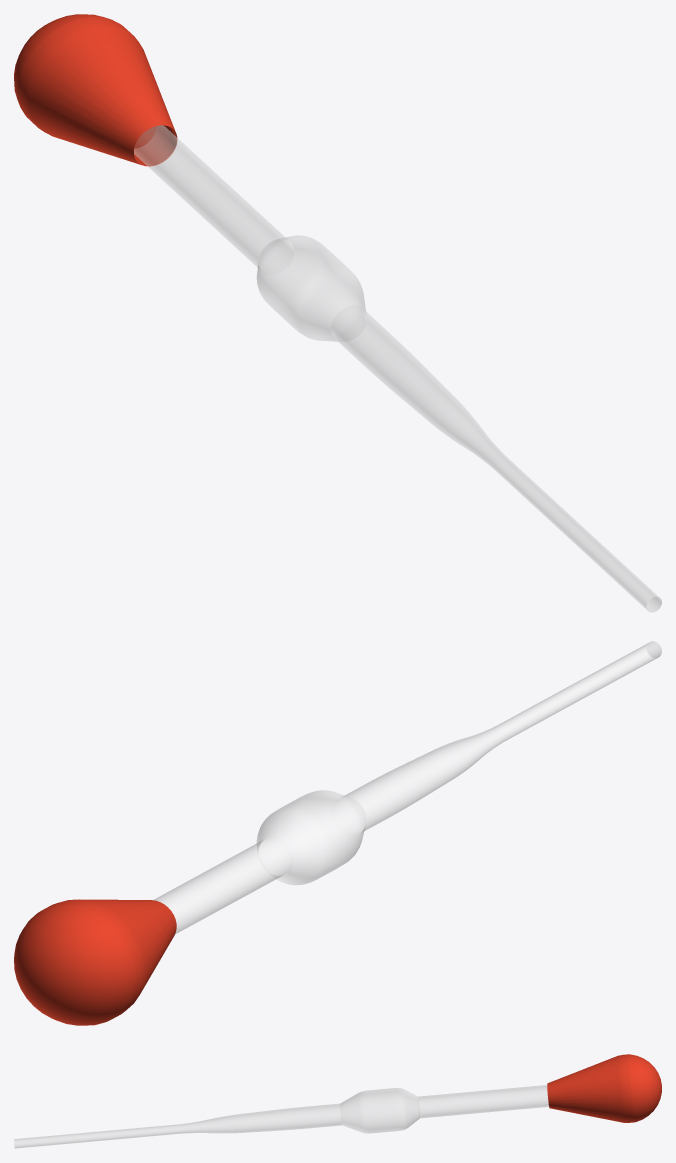
The model's file is pipet gondok.fbx.
3 views of the same model, one above another, from view 1: azimuth 30°, elevation 25°; view 2: azimuth 150°, elevation 25°; view 3: azimuth 270°, elevation 25° (orthographic). The views are drawn at different scales.
Parts seen in each view (by area): view 1: Sphere.021, Sphere.022; view 2: Sphere.021, Sphere.022; view 3: Sphere.021, Sphere.022.
Part boxes in pixels (bbox=[...]): Sphere.021: bbox=[134, 125, 661, 612]; Sphere.022: bbox=[14, 14, 177, 166]; Sphere.021: bbox=[153, 641, 661, 934]; Sphere.022: bbox=[14, 899, 176, 1025]; Sphere.021: bbox=[14, 1085, 548, 1148]; Sphere.022: bbox=[547, 1054, 661, 1122].
Bounding box in the file's own units: 1.92 × 2.61 × 16.88.
